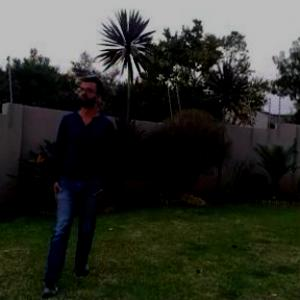follow: (39, 40, 118, 292)
